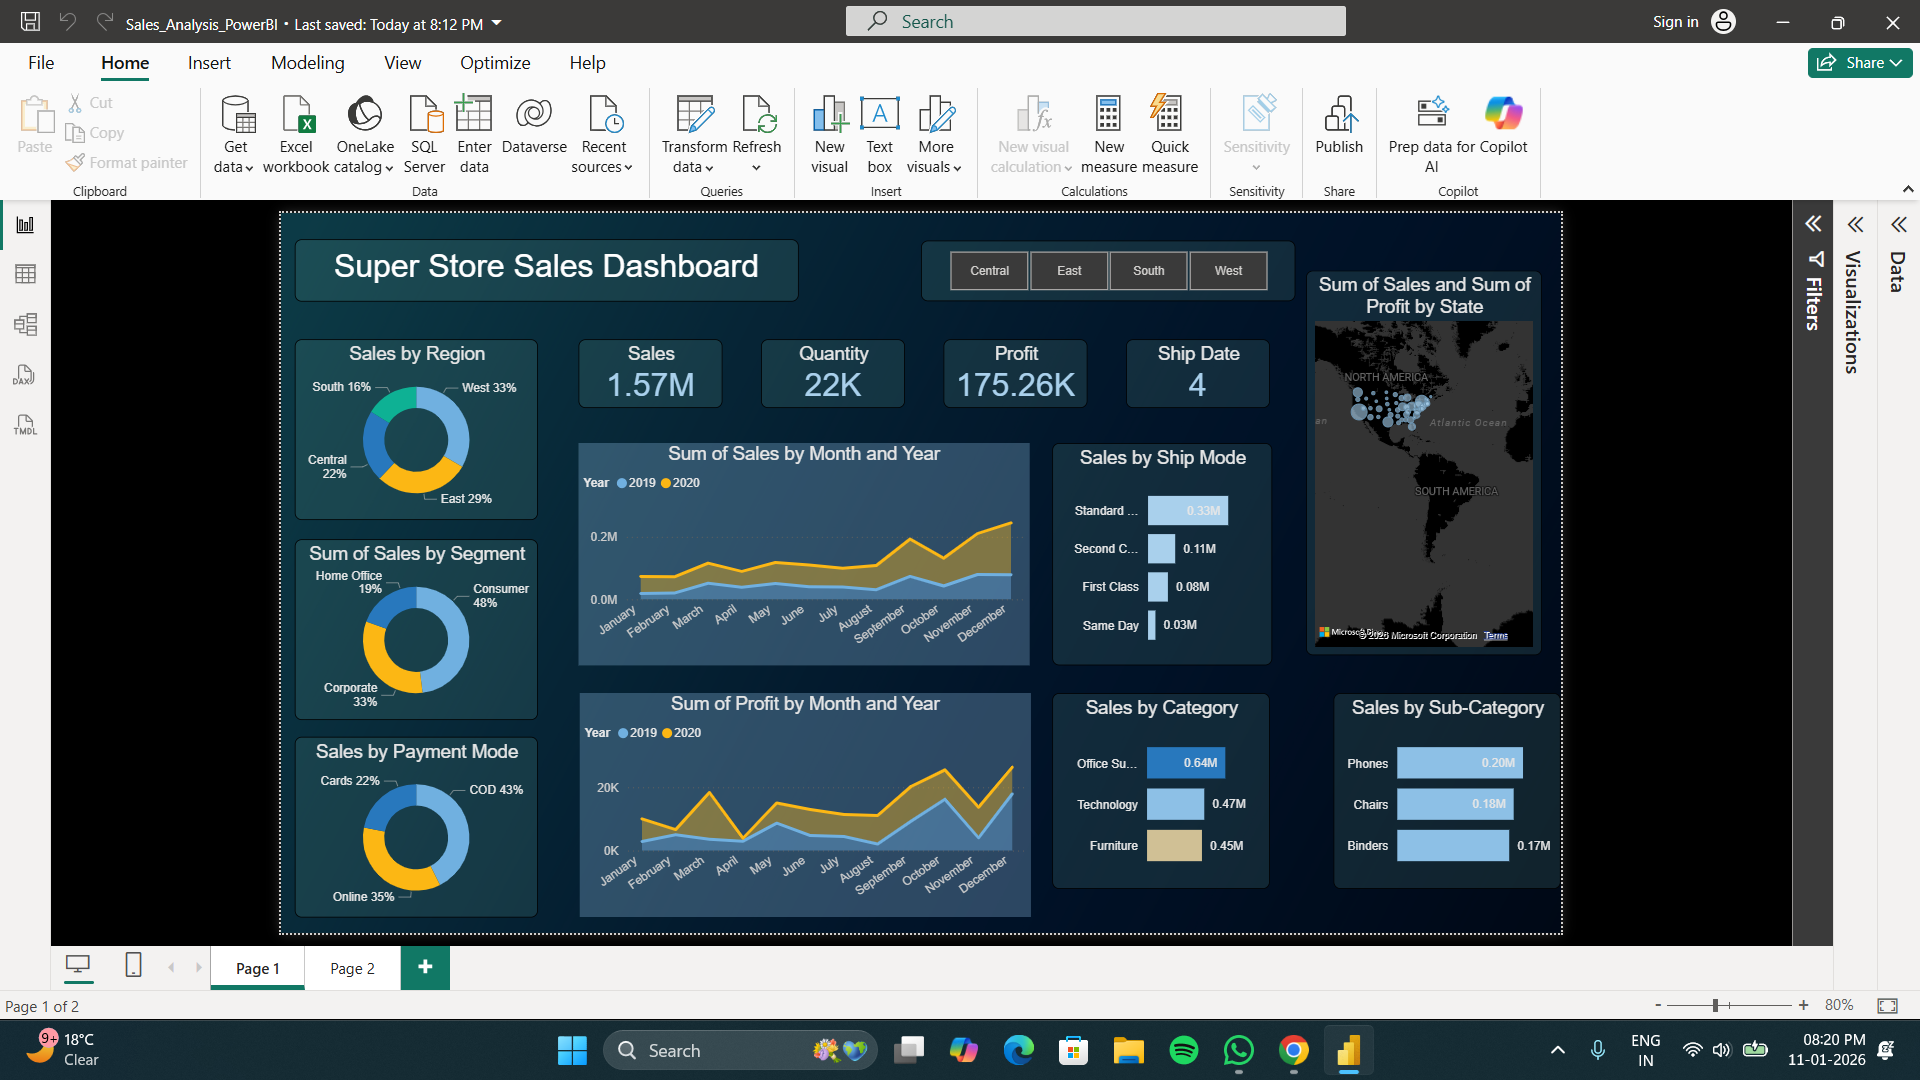

What the dashboard file says about the page in this screenshot:
{"tool":"powerbi","page":{"name":"Page 1","canvas":[1280,720],"ordinal":0},"visuals":[{"type":"clusteredBarChart","title":" Sales by Category","fields":{"Category":["SuperStore_Sales_Dataset.Category"],"Y":["Sum(SuperStore_Sales_Dataset.Sales)"]},"box":[771.6,480.6,217.7,195.7],"z":0},{"type":"clusteredBarChart","title":" Sales by Sub-Category","fields":{"Category":["SuperStore_Sales_Dataset.Sub-Category"],"Y":["Sum(SuperStore_Sales_Dataset.Sales)"]},"box":[1052.9,480.6,227.4,195.7],"z":1000},{"type":"clusteredBarChart","title":" Sales by Ship Mode","fields":{"Category":["SuperStore_Sales_Dataset.Ship Mode"],"Y":["Sum(SuperStore_Sales_Dataset.Sales)"]},"box":[771.6,229.9,220.1,222.6],"z":2000},{"type":"stackedAreaChart","fields":{"Category":["SuperStore_Sales_Dataset.Order Date.Variation.Date Hierarchy.Month","SuperStore_Sales_Dataset.Order Date.Variation.Date Hierarchy.Day"],"Y":["Sum(SuperStore_Sales_Dataset.Sales)"],"Series":["SuperStore_Sales_Dataset.Order Date.Variation.Date Hierarchy.Year"]},"box":[297.1,229.9,451.2,222.6],"z":3000},{"type":"stackedAreaChart","fields":{"Category":["SuperStore_Sales_Dataset.Order Date.Variation.Date Hierarchy.Month","SuperStore_Sales_Dataset.Order Date.Variation.Date Hierarchy.Day"],"Series":["SuperStore_Sales_Dataset.Order Date.Variation.Date Hierarchy.Year"],"Y":["Sum(SuperStore_Sales_Dataset.Profit)"]},"box":[298.4,480.6,451.2,223.8],"z":4000},{"type":"map","fields":{"Category":["SuperStore_Sales_Dataset.State"],"Size":["Sum(SuperStore_Sales_Dataset.Sales)"]},"box":[1024.7,57.5,236,385.2],"z":5000},{"type":"donutChart","fields":{"Category":["SuperStore_Sales_Dataset.Segment"],"Y":["Sum(SuperStore_Sales_Dataset.Sales)"]},"box":[13.5,326.5,243.3,181],"z":6000},{"type":"donutChart","title":"Sales by Payment Mode","fields":{"Category":["SuperStore_Sales_Dataset.Payment Mode"],"Y":["Sum(SuperStore_Sales_Dataset.Sales)"]},"box":[13.5,523.4,243.3,181],"z":7000},{"type":"slicer","fields":{"Values":["SuperStore_Sales_Dataset.Region"]},"box":[639.5,26.9,374.2,61.1],"z":8000},{"type":"textbox","box":[13.5,25.7,503.8,62.4],"z":9000},{"type":"card","title":"Sales","fields":{"Values":["Sum(SuperStore_Sales_Dataset.Sales)"]},"box":[297.1,126,144.3,68.5],"z":10000},{"type":"card","title":"Quantity","fields":{"Values":["Sum(SuperStore_Sales_Dataset.Quantity)"]},"box":[480.6,126,144.3,68.5],"z":11000},{"type":"card","title":"Profit","fields":{"Values":["Sum(SuperStore_Sales_Dataset.Profit)"]},"box":[662.8,126,144.3,68.5],"z":12000},{"type":"card","title":"Ship Date","fields":{"Values":["Avg(SuperStore_Sales_Dataset.AvgDelivery)"]},"box":[845,126,144.3,68.5],"z":13000},{"type":"donutChart","title":"Sales by Region","fields":{"Category":["SuperStore_Sales_Dataset.Region"],"Y":["Sum(SuperStore_Sales_Dataset.Sales)"]},"box":[13.5,126,243.3,181],"z":13001}]}

Visuals, with their boxes on the page's 1280x720 design canvas (x1, y1, x2, y2). These are canvas units, not pixel positions in the 1920x1080 screenshot, which may show the page scaled, cropped or inside an application window:
" Sales by Category" clusteredBarChart: {"x1": 772, "y1": 481, "x2": 989, "y2": 676}
" Sales by Sub-Category" clusteredBarChart: {"x1": 1053, "y1": 481, "x2": 1280, "y2": 676}
" Sales by Ship Mode" clusteredBarChart: {"x1": 772, "y1": 230, "x2": 992, "y2": 452}
stackedAreaChart - SuperStore_Sales_Dataset.Order Date.Variation.Date Hierarchy.Month x SuperStore_Sales_Dataset.Order Date.Variation.Date Hierarchy.Day: {"x1": 297, "y1": 230, "x2": 748, "y2": 452}
stackedAreaChart - SuperStore_Sales_Dataset.Order Date.Variation.Date Hierarchy.Month x SuperStore_Sales_Dataset.Order Date.Variation.Date Hierarchy.Day: {"x1": 298, "y1": 481, "x2": 750, "y2": 704}
map - SuperStore_Sales_Dataset.State x Sum(SuperStore_Sales_Dataset.Sales): {"x1": 1025, "y1": 58, "x2": 1261, "y2": 443}
donutChart - SuperStore_Sales_Dataset.Segment x Sum(SuperStore_Sales_Dataset.Sales): {"x1": 14, "y1": 326, "x2": 257, "y2": 508}
"Sales by Payment Mode" donutChart: {"x1": 14, "y1": 523, "x2": 257, "y2": 704}
slicer - SuperStore_Sales_Dataset.Region: {"x1": 640, "y1": 27, "x2": 1014, "y2": 88}
textbox: {"x1": 14, "y1": 26, "x2": 517, "y2": 88}
"Sales" card: {"x1": 297, "y1": 126, "x2": 441, "y2": 194}
"Quantity" card: {"x1": 481, "y1": 126, "x2": 625, "y2": 194}
"Profit" card: {"x1": 663, "y1": 126, "x2": 807, "y2": 194}
"Ship Date" card: {"x1": 845, "y1": 126, "x2": 989, "y2": 194}
"Sales by Region" donutChart: {"x1": 14, "y1": 126, "x2": 257, "y2": 307}
